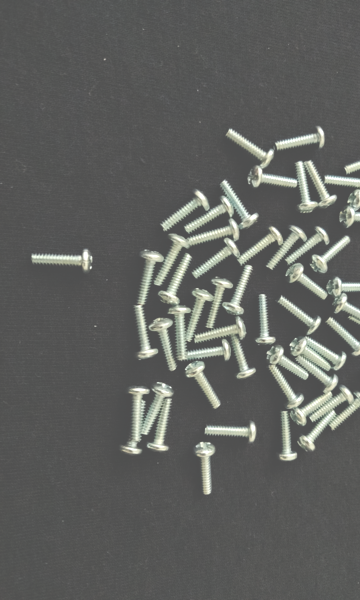shortscrew: (160, 189, 210, 232), (226, 128, 275, 170), (220, 180, 260, 230), (157, 252, 193, 306), (276, 296, 323, 337), (153, 234, 189, 287), (184, 196, 234, 234), (237, 226, 284, 266), (142, 382, 176, 437), (184, 360, 221, 410), (285, 226, 331, 266), (267, 225, 307, 271), (309, 235, 352, 275), (297, 410, 337, 453), (309, 385, 354, 423), (31, 248, 94, 275), (295, 355, 340, 392), (135, 249, 164, 306), (305, 159, 338, 209), (222, 264, 253, 317), (123, 385, 151, 443), (148, 318, 178, 372), (185, 288, 214, 343), (193, 316, 248, 345), (144, 400, 173, 455), (303, 337, 348, 372), (204, 277, 234, 329), (132, 305, 159, 362), (289, 337, 332, 372), (167, 306, 193, 362), (326, 317, 360, 357), (275, 125, 326, 151), (294, 161, 319, 214), (229, 336, 256, 382), (249, 165, 298, 190), (184, 338, 231, 364), (254, 294, 277, 347), (330, 391, 360, 431), (194, 442, 216, 495), (276, 411, 299, 461), (203, 421, 258, 441), (332, 292, 360, 328), (323, 173, 360, 195), (326, 277, 360, 297), (343, 145, 360, 176), (339, 206, 360, 228), (347, 189, 360, 214)
